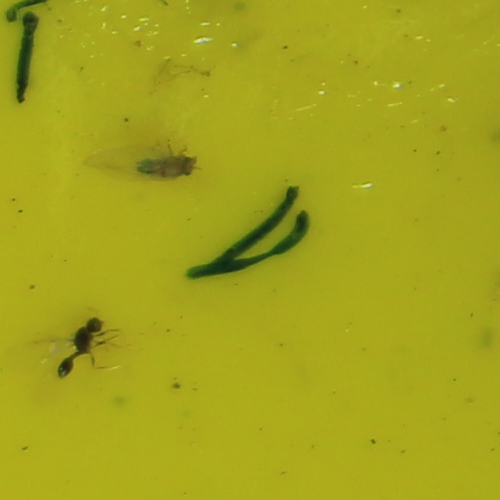psylla: (133, 151, 198, 180)
